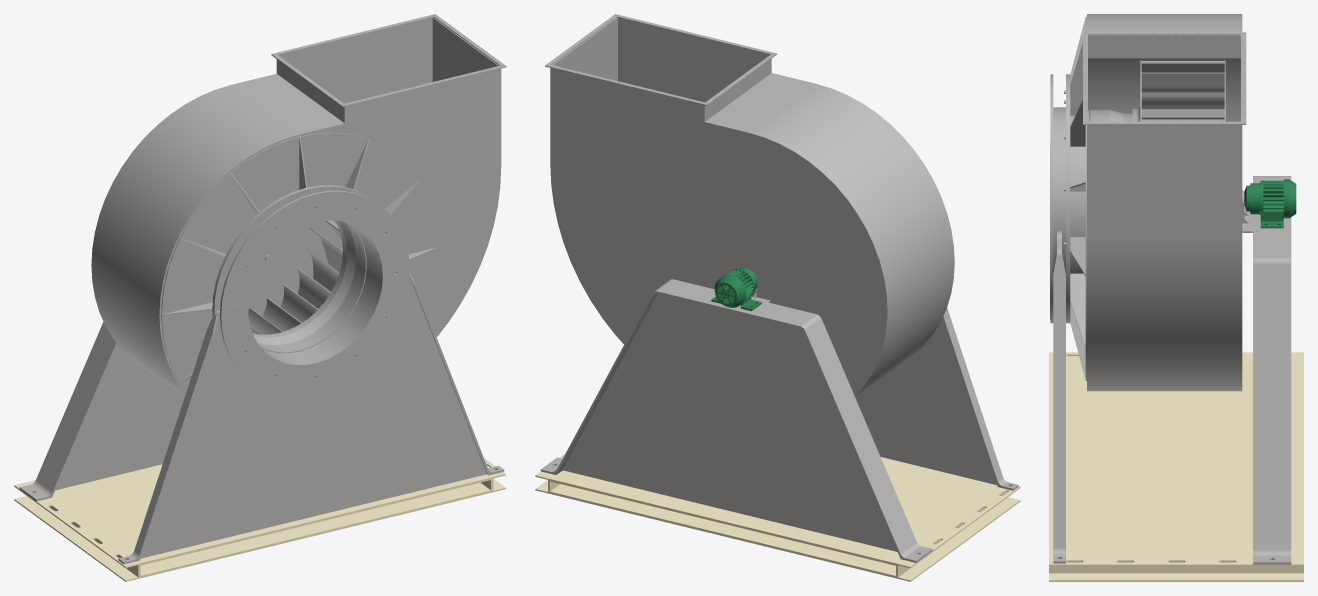
Rendered from IndustrialFan_2692.glb.
3 views of the same model, side by side, from view 1: azimuth 30°, elevation 25°; view 2: azimuth 150°, elevation 25°; view 3: azimuth 270°, elevation 25° (orthographic). The views are drawn at different scales.
Parts seen in each view (by area): view 1: Solid1.005, Solid1.003, Sólido1, Solid1, Solid1.001, Sólido1.002, Solid1.004; view 2: Solid1.003, Solid1.001, Solid1, Solid1.005, Solid1.004, Solid1.002; view 3: Solid1.003, Solid1, Solid1.001, Solid1.005, Sólido1, Sólido1.002, Solid1.004, Solid1.002.
Part boxes in pixels (x1,y1,x2,y2): Solid1.005: [118, 185, 504, 564]; Solid1.003: [91, 17, 501, 396]; Sólido1: [161, 132, 437, 390]; Solid1: [14, 458, 505, 581]; Solid1.001: [19, 322, 184, 501]; Sólido1.002: [248, 220, 342, 334]; Solid1.004: [271, 14, 506, 107]; Solid1.003: [550, 17, 954, 397]; Solid1.001: [540, 279, 932, 562]; Solid1: [535, 453, 1020, 581]; Solid1.005: [855, 307, 1018, 490]; Solid1.004: [545, 14, 777, 105]; Solid1.002: [711, 267, 761, 311]; Solid1.003: [1087, 14, 1242, 391]; Solid1: [1049, 352, 1303, 581]; Solid1.001: [1253, 176, 1291, 564]; Solid1.005: [1050, 74, 1068, 563]; Sólido1: [1064, 16, 1132, 380]; Sólido1.002: [1141, 60, 1225, 121]; Solid1.004: [1083, 32, 1246, 124]; Solid1.002: [1244, 179, 1296, 228].
Bounding box in the file's own units: 4.18 × 4.12 × 2.04.
